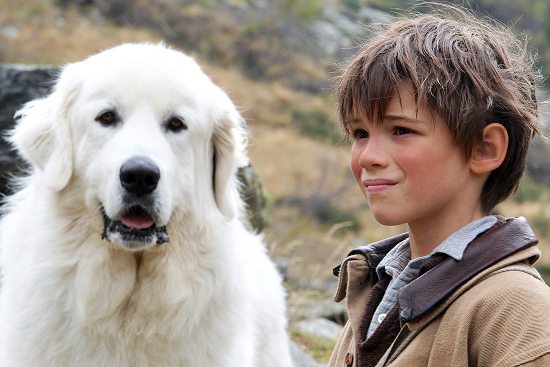dog: (1, 40, 305, 363)
person: (293, 9, 547, 364)
